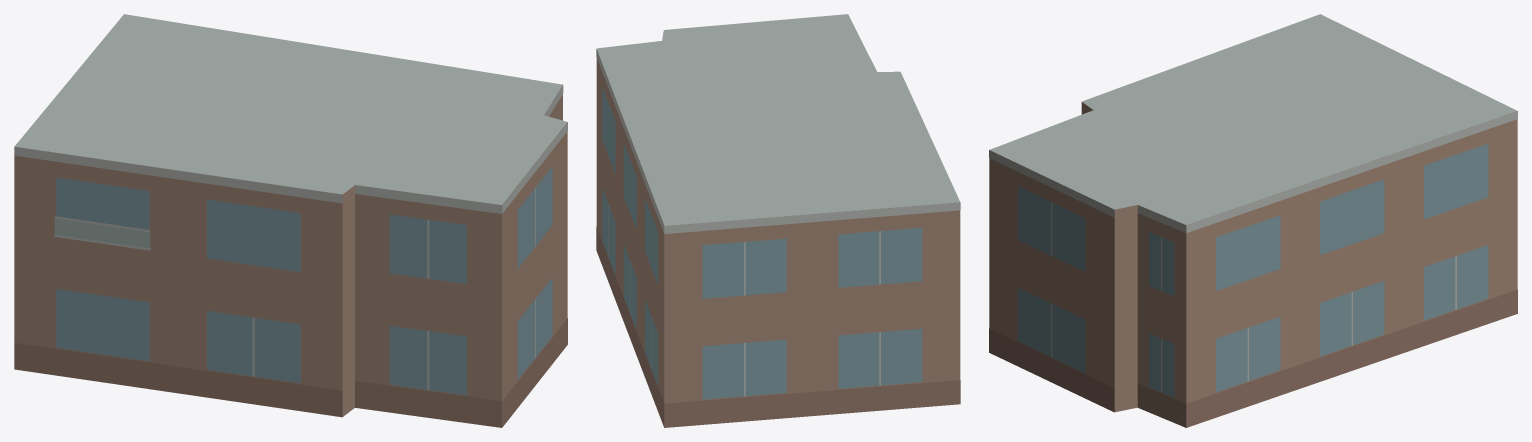
Rendered from survey-upis-32625104.glb.
The picture shows the model from 3 angles, left to right: view 1: azimuth 30°, elevation 25°; view 2: azimuth 150°, elevation 25°; view 3: azimuth 270°, elevation 25°; orthographic projection. The views are drawn at different scales.
Parts seen in each view (by area): view 1: survey-upis-32625104.tmp; view 2: survey-upis-32625104.tmp; view 3: survey-upis-32625104.tmp.
Boxes of the visible parts, <box> form: survey-upis-32625104.tmp: <box>14,14,567,427</box>; survey-upis-32625104.tmp: <box>596,14,960,427</box>; survey-upis-32625104.tmp: <box>989,14,1517,427</box>.
Size of the model in its own units: 13.63 by 6.1 by 14.42.
